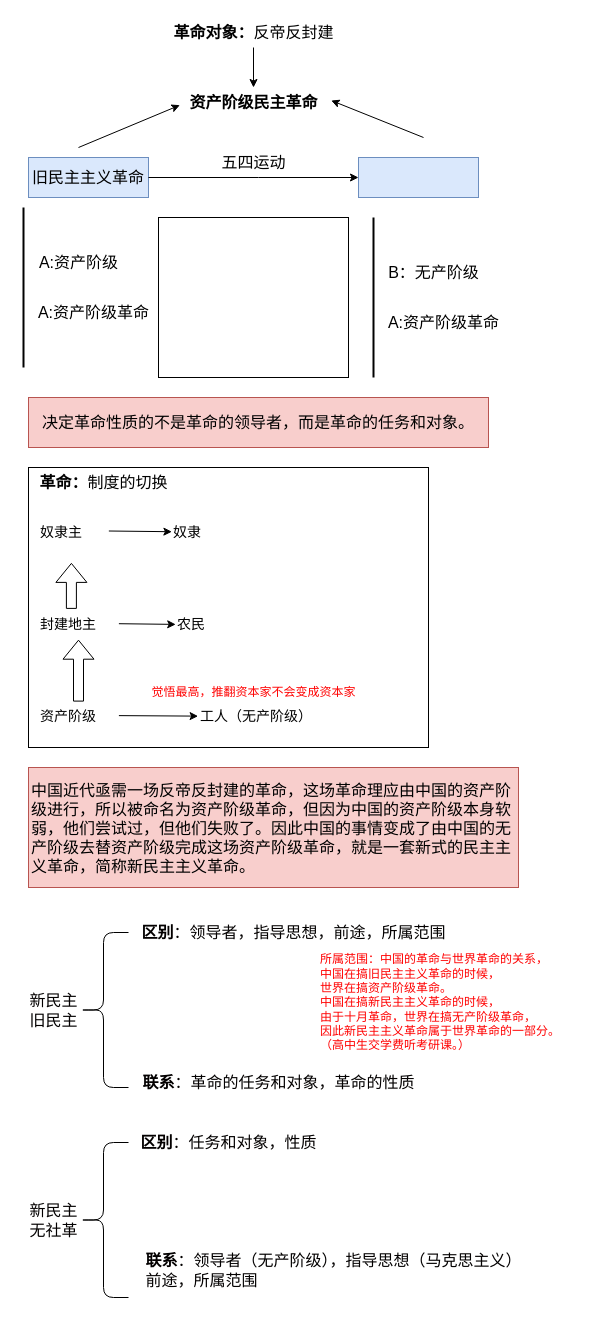
This 595x1324 diagram has some shape labels left out. The centre of each missing label's shape, as x and y in pixels:
"1.革命领导阶级： A：资产阶级 B：无产阶级 2.革命性质： A：资产阶级革命 B：无产阶级革命" goes at point (253, 297).
"新民主主义革命" goes at point (418, 177).
